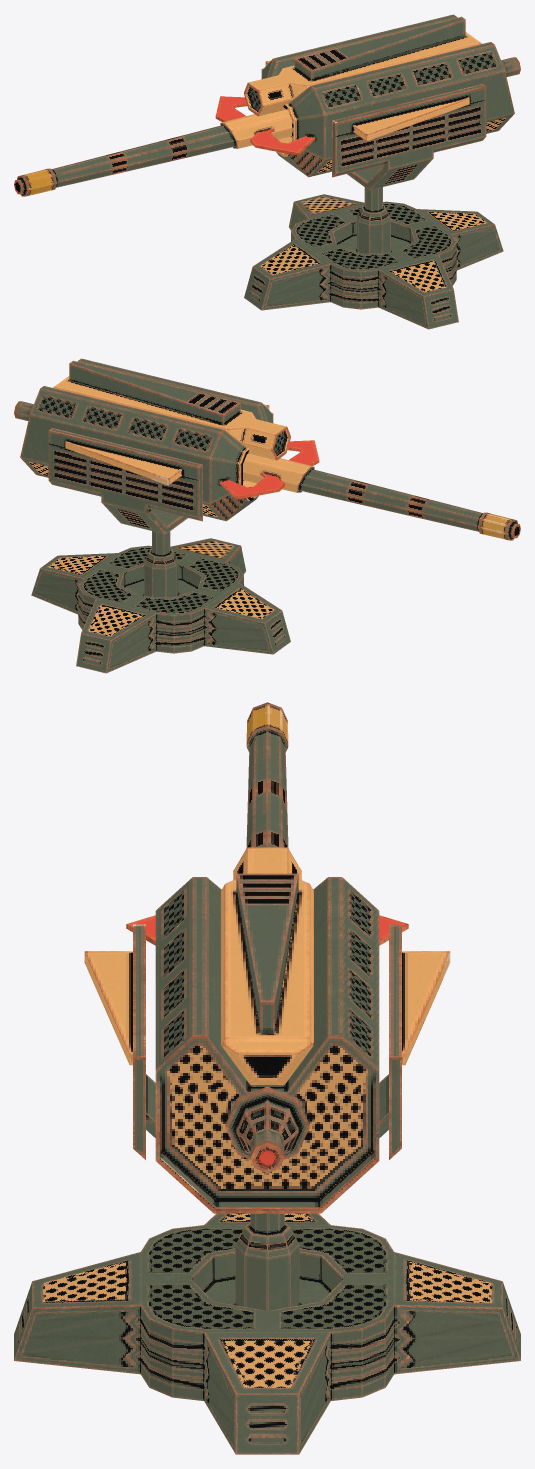
File: turret3.glb
The picture shows the model from 3 angles, top to bottom: view 1: azimuth 30°, elevation 25°; view 2: azimuth 150°, elevation 25°; view 3: azimuth 270°, elevation 25°; orthographic projection. The views are drawn at different scales.
Visible parts, largest first — view 1: low_turret_3_3_0, low_bottom_3_b1_0, low_turret_3_root_3_0, low_turret_3_gun; view 2: low_turret_3_3_0, low_bottom_3_b1_0, low_turret_3_root_3_0, low_turret_3_gun; view 3: low_bottom_3_b1_0, low_turret_3_3_0, low_turret_3_root_3_0, low_turret_3_gun.
Boxes of the visible parts, x1,y1,x2,y2 form: low_turret_3_3_0: (215, 14, 514, 177); low_bottom_3_b1_0: (244, 169, 503, 329); low_turret_3_root_3_0: (261, 60, 486, 190); low_turret_3_gun: (14, 57, 520, 196); low_turret_3_3_0: (20, 358, 319, 521); low_bottom_3_b1_0: (31, 513, 290, 673); low_turret_3_root_3_0: (48, 404, 273, 534); low_turret_3_gun: (14, 401, 520, 540); low_bottom_3_b1_0: (14, 1213, 520, 1454); low_turret_3_3_0: (126, 847, 408, 1213); low_turret_3_root_3_0: (84, 924, 450, 1159); low_turret_3_gun: (225, 702, 309, 1172).
Bounding box in the file's own units: 4.11 × 1.85 × 2.
Materials: 2 (2 with a texture image).
